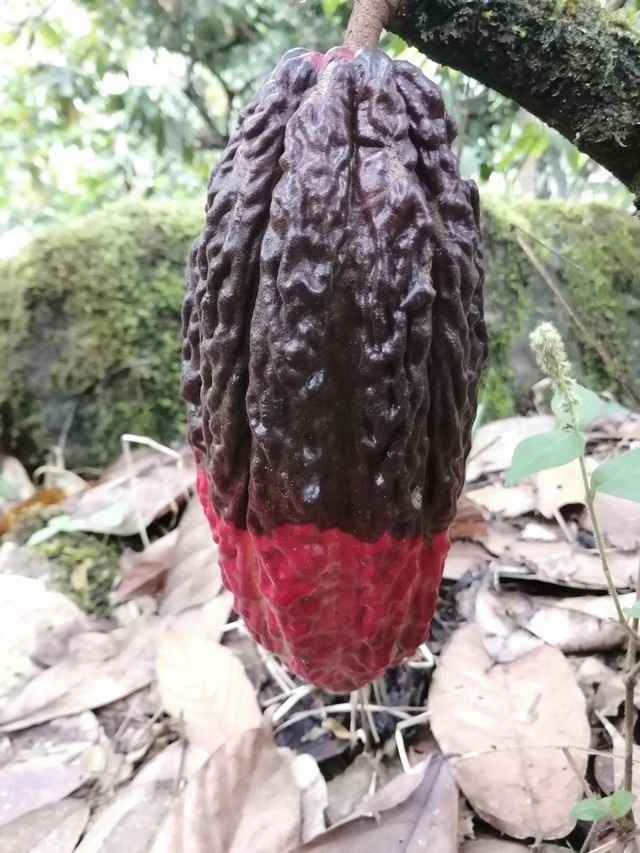phytophthora palmivora: (169, 35, 506, 701)
